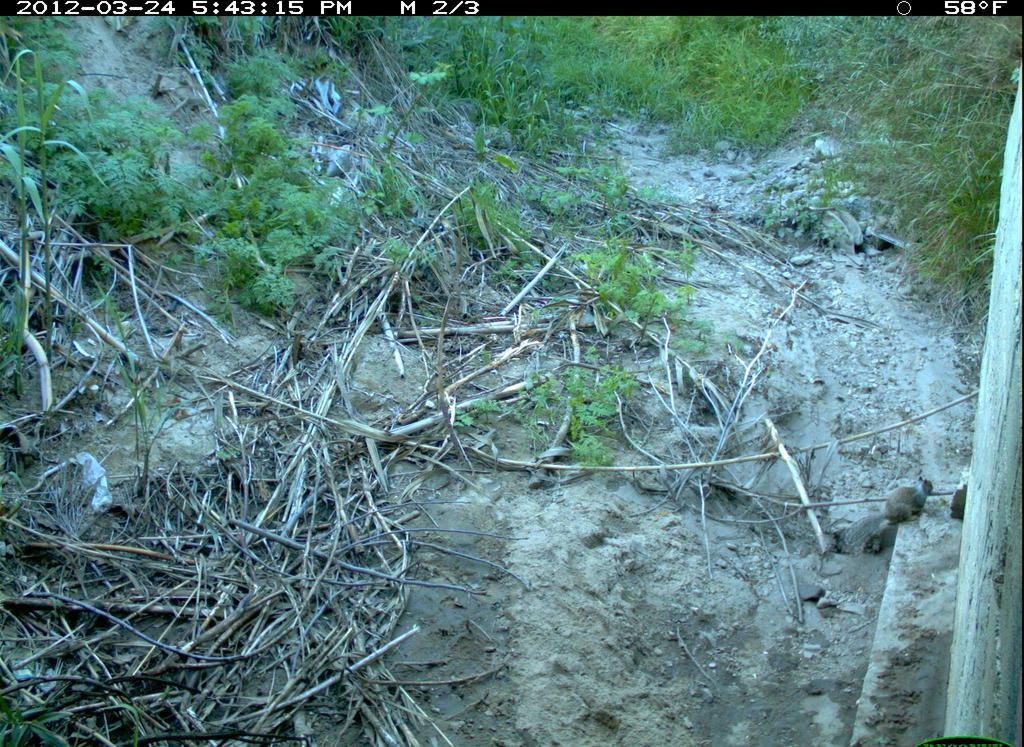squirrel: (829, 474, 938, 559)
